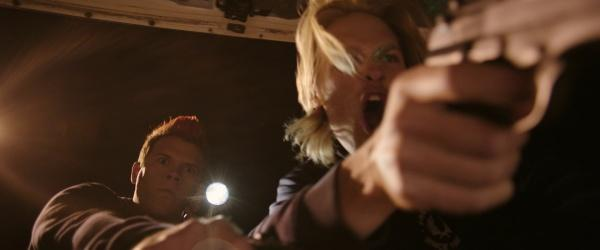Gun: (426, 0, 600, 136)
